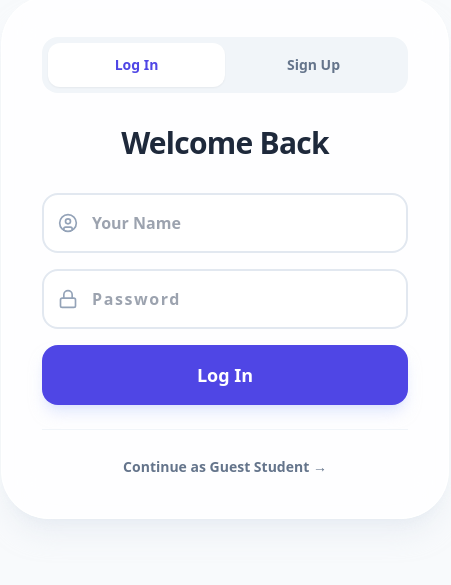
it: a malformed success response cannot store an invalid session
Click the button "Sign Up".
click(314, 64)  # box [225,42,402,86]
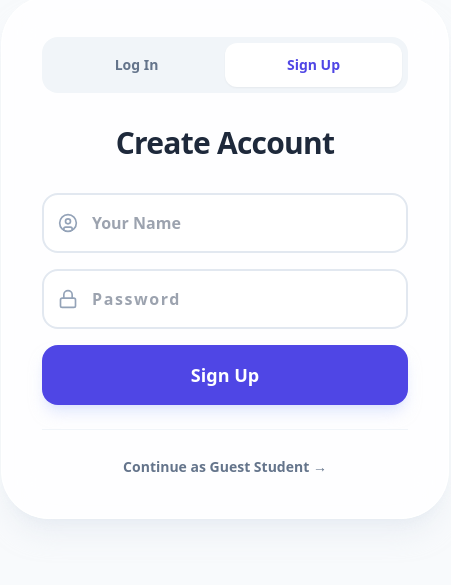
Type "  Student  " into the field with placeholder "Your Name".
click(225, 222); type("  Student  ")  # box [42,192,408,252]
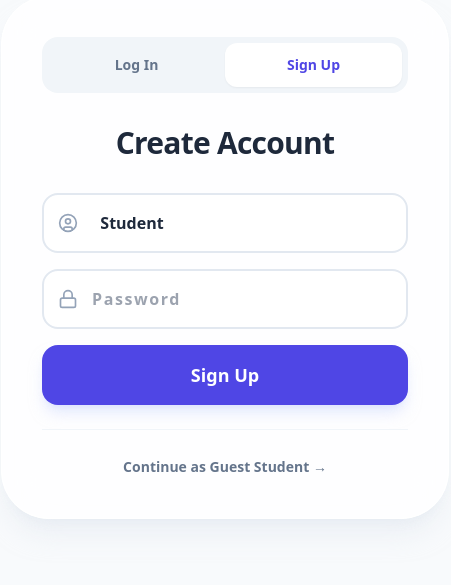
Type "test-password-only" into the password field with placeholder "Password".
click(225, 298); type("test-password-only")  # box [42,268,408,328]
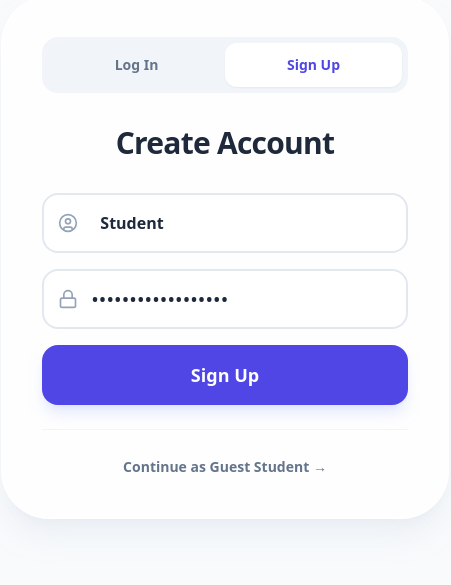
Click the 2nd button "Sign Up".
click(225, 374)  # box [42,344,408,404]
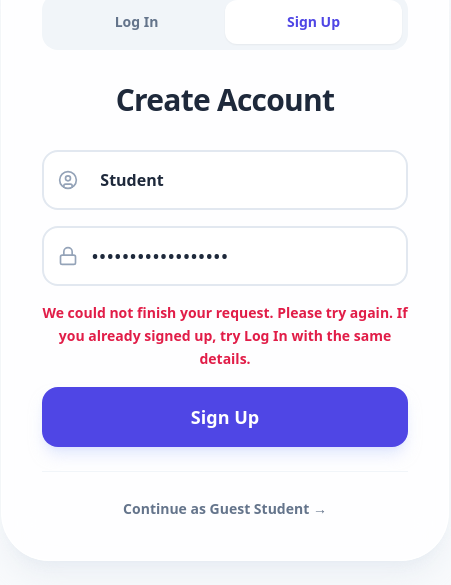
Expected: the message is shown, [42,302,408,371]
